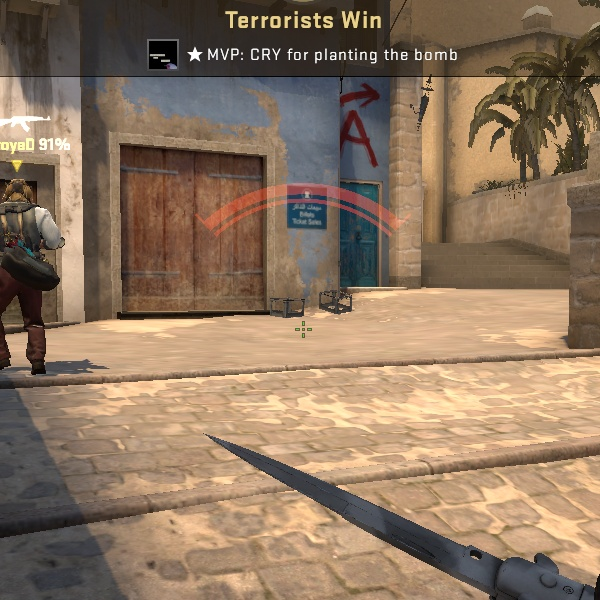t_body: (1, 165, 77, 379)
t_head: (0, 170, 40, 216)
